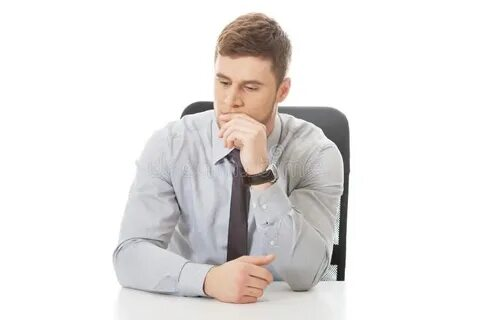awake: (111, 11, 345, 305)
